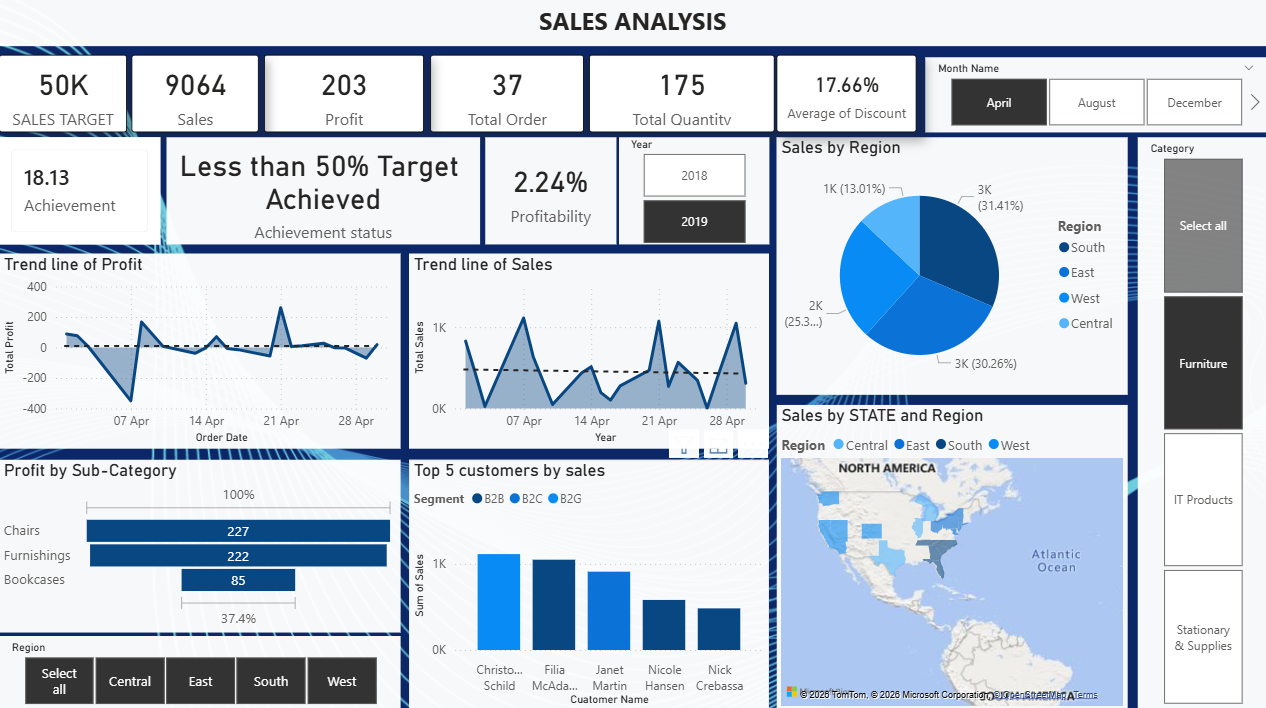

The page's visual inventory and layout, read from the dashboard file:
{"tool":"powerbi","page":{"name":"Page 1","canvas":[1280,720],"ordinal":0},"visuals":[{"type":"textbox","box":[0,8.1,1267.4,46.5],"z":0},{"type":"card","fields":{"Values":["FInal.SALES TARGET"]},"box":[0,63.8,127.7,77.7],"z":1000},{"type":"card","fields":{"Values":["Count(FInal.Order ID)"]},"box":[431.5,63.8,153.8,77.7],"z":2000},{"type":"card","fields":{"Values":["Sum(FInal.Quantity)"]},"box":[590,63.8,185.4,77.7],"z":3000},{"type":"card","fields":{"Values":["Sum(FInal.Profit)"]},"box":[265,63.8,160,77.5],"z":4000},{"type":"card","fields":{"Values":["Sum(FInal.Sales)"]},"box":[132.5,63.8,127.5,77.5],"z":5000},{"type":"card","fields":{"Values":["2018.Sum of Profit divided by Sum of Sales"]},"box":[486.2,146.2,131.2,107.5],"z":6000},{"type":"slicer","fields":{"Values":["FInal.Category"]},"box":[1138.4,146.5,129.1,573.3],"z":7000},{"type":"slicer","fields":{"Values":["Customer Details.Column5"]},"box":[0,645,401.2,75],"z":8000},{"type":"filledMap","fields":{"Category":["Customer Details.STATE"],"Series":["Customer Details.rEGION"]},"box":[777.5,413.8,351.2,306.2],"z":9000},{"type":"cardVisual","fields":{"Data":["FInal.Achievement"]},"box":[0,146.2,161.2,107.5],"z":10000},{"type":"card","fields":{"Values":["FInal.Achievement status"]},"box":[167.5,146.2,313.8,107.5],"z":11000},{"type":"columnChart","title":"Top 5 customers by sales","fields":{"Category":["Customer Details.Column2"],"Y":["Sum(FInal.Sales)"],"Series":["FInal.Segment"]},"box":[410,468.8,360,251.2],"z":12000},{"type":"areaChart","title":"Trend line of Sales ","fields":{"Y":["Sum(FInal.Sales)"],"Category":["FInal.Order Date.Variation.Date Hierarchy.Year","FInal.Order Date.Variation.Date Hierarchy.Quarter","FInal.Order Date.Variation.Date Hierarchy.Month","FInal.Order Date.Variation.Date Hierarchy.Day"]},"box":[410,262.5,360,195],"z":13000},{"type":"areaChart","title":"Trend line of  Profit","fields":{"Category":["FInal.Order Date"],"Y":["Sum(FInal.Profit)"]},"box":[0,262.5,401.2,195],"z":14000},{"type":"pieChart","fields":{"Y":["Sum(FInal.Sales)"],"Category":["Customer Details.rEGION"]},"box":[777.5,146.2,351.2,257.5],"z":15000},{"type":"slicer","fields":{"Values":["FInal.Year"]},"box":[620,146.2,150,107.5],"z":16000},{"type":"funnel","title":"Profit by Sub-Category","fields":{"Category":["FInal.Sub-Category"],"Y":["Sum(FInal.Profit)"]},"box":[0,468.8,401.2,172.5],"z":17000},{"type":"slicer","fields":{"Values":["FInal.Month Name"]},"box":[926,66,341,75],"z":18000},{"type":"card","fields":{"Values":["Avg(FInal.Discount)"]},"box":[777.7,63.8,140,77.7],"z":19000}]}

Visuals, with their boxes in screenshot pixels (x1, y1, x2, y2), scaled from the page's 1280x720 canvas onto the 1266x708 screenshot:
textbox: <region>0, 8, 1254, 54</region>
card - FInal.SALES TARGET: <region>0, 63, 126, 139</region>
card - Count(FInal.Order ID): <region>427, 63, 579, 139</region>
card - Sum(FInal.Quantity): <region>584, 63, 767, 139</region>
card - Sum(FInal.Profit): <region>262, 63, 420, 139</region>
card - Sum(FInal.Sales): <region>131, 63, 257, 139</region>
card - 2018.Sum of Profit divided by Sum of Sales: <region>481, 144, 611, 249</region>
slicer - FInal.Category: <region>1126, 144, 1254, 707</region>
slicer - Customer Details.Column5: <region>0, 634, 397, 707</region>
filledMap - Customer Details.STATE x Customer Details.rEGION: <region>769, 407, 1116, 707</region>
cardVisual - FInal.Achievement: <region>0, 144, 159, 249</region>
card - FInal.Achievement status: <region>166, 144, 476, 249</region>
"Top 5 customers by sales" columnChart: <region>406, 461, 762, 707</region>
"Trend line of Sales " areaChart: <region>406, 258, 762, 450</region>
"Trend line of  Profit" areaChart: <region>0, 258, 397, 450</region>
pieChart - Sum(FInal.Sales) x Customer Details.rEGION: <region>769, 144, 1116, 397</region>
slicer - FInal.Year: <region>613, 144, 762, 249</region>
"Profit by Sub-Category" funnel: <region>0, 461, 397, 631</region>
slicer - FInal.Month Name: <region>916, 65, 1253, 139</region>
card - Avg(FInal.Discount): <region>769, 63, 908, 139</region>
